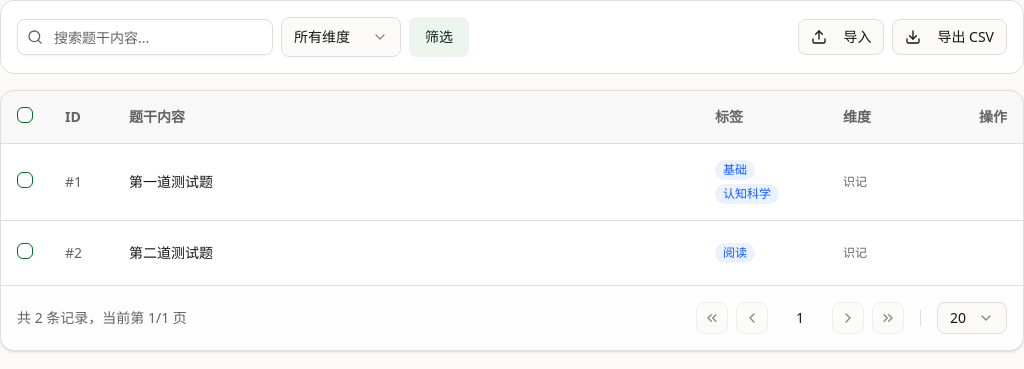
Test: QuestionManager 集成测试 › 在搜索框输入关键字并点击"筛选"后，应以过滤后的结果重新渲染列表
Expected: the text "第一道测试题" is shown, [129, 172, 213, 191]
Note: 在搜索框输入关键字
Type "第一道" into the field with placeholder "搜索题干内容...". click: (145, 37)
box: [17, 19, 273, 55]
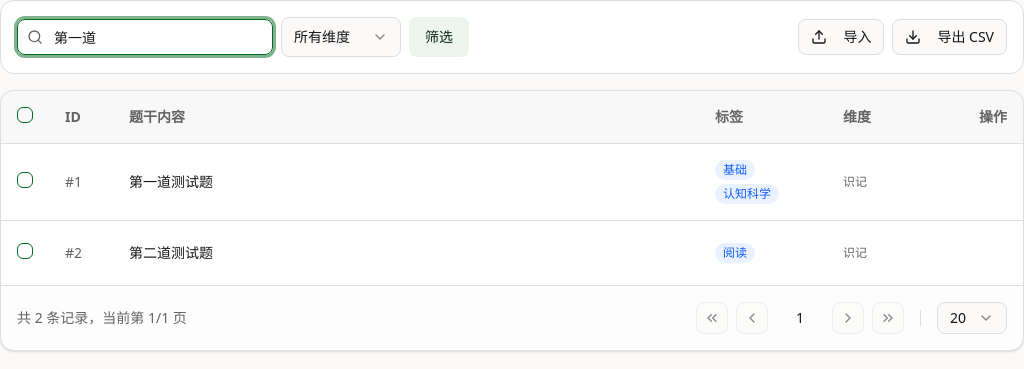
Click the button "筛选". click: (439, 37)
box: [409, 17, 469, 57]
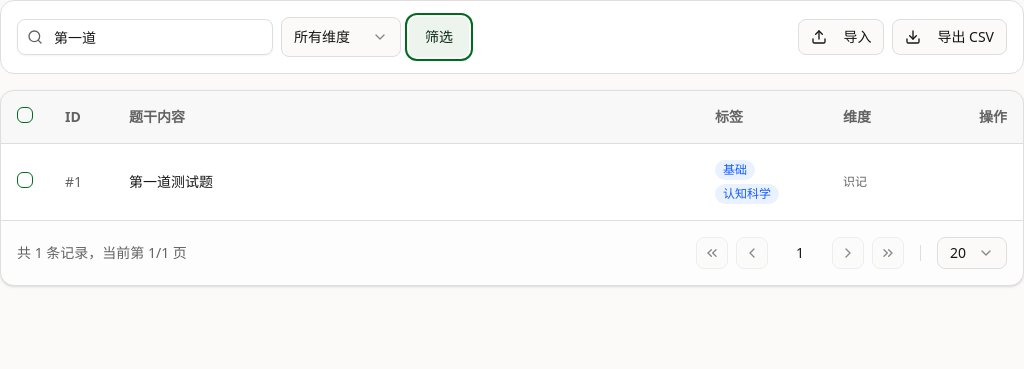
Expected: the text "第一道测试题" is shown, [129, 172, 213, 191]
Expected: the text "第二道测试题" is gone
Expected: the text "共 1 条记录，当前第 1/1 页" is shown, [17, 243, 187, 263]
